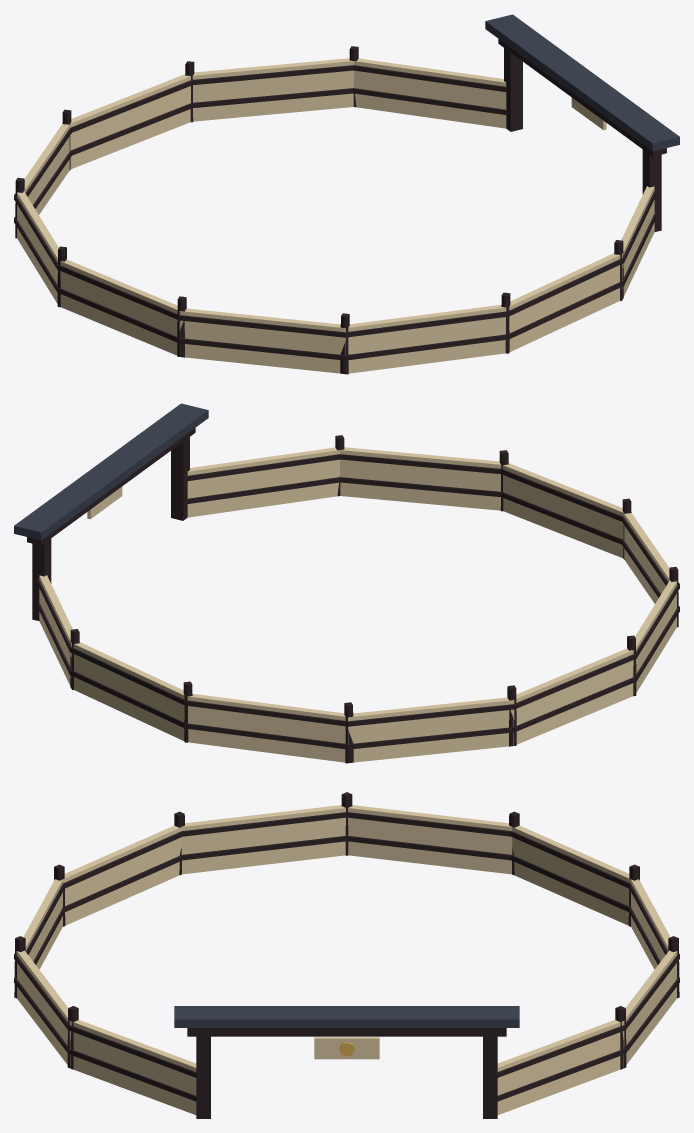
File: base_merchant_walls_1.glb
The picture shows the model from 3 angles, top to bottom: view 1: azimuth 30°, elevation 25°; view 2: azimuth 150°, elevation 25°; view 3: azimuth 270°, elevation 25°; orthographic projection. The views are drawn at different scales.
Visible parts, largest first — view 1: fence_1, fence_6, fence_7, gate_roof, fence_0, fence_2, fence_5, fence_8, fence_4, fence_3, fence_9, gate_post_n (+16 smaller); view 2: fence_8, fence_3, fence_2, gate_roof, fence_9, fence_7, fence_4, fence_1, fence_5, fence_6, fence_0, gate_post_s (+16 smaller); view 3: gate_roof, fence_4, fence_5, fence_0, fence_9, fence_3, fence_6, gate_beam, fence_1, fence_8, fence_2, fence_7 (+15 smaller).
Boxes of the visible parts, box(x1,y1,x2,y2) form: fence_1: box(192, 58, 353, 121); fence_6: box(179, 308, 345, 373); fence_7: box(345, 304, 506, 373); gate_roof: box(485, 14, 679, 151); fence_0: box(354, 58, 506, 128); fence_2: box(70, 74, 190, 169); fence_5: box(60, 259, 180, 356); fence_8: box(509, 253, 622, 351); fence_4: box(17, 191, 58, 303); fence_3: box(24, 124, 70, 214); fence_9: box(621, 186, 654, 296); gate_post_n: box(504, 48, 522, 131); fence_8: box(340, 447, 501, 510); fence_3: box(348, 697, 514, 762); fence_2: box(187, 693, 348, 762); gate_roof: box(14, 403, 208, 540); fence_9: box(187, 447, 339, 517); fence_7: box(503, 463, 623, 558); fence_4: box(513, 648, 633, 745); fence_1: box(71, 642, 184, 740); fence_5: box(635, 580, 676, 692); fence_6: box(623, 513, 669, 603); fence_0: box(39, 575, 72, 685); gate_post_s: box(171, 437, 189, 520); gate_roof: box(174, 1006, 519, 1027); fence_4: box(344, 805, 512, 874); fence_5: box(181, 805, 345, 874); fence_0: box(497, 1020, 624, 1114); fence_9: box(69, 1020, 196, 1114); fence_3: box(511, 825, 630, 925); fence_6: box(63, 825, 181, 925); gate_beam: box(187, 1028, 506, 1036); fence_1: box(623, 950, 677, 1068); fence_8: box(16, 950, 70, 1068); fence_2: box(631, 879, 670, 969); fence_7: box(23, 879, 62, 969).
Bounding box in the file's own units: 0.984 × 0.174 × 1.02.
